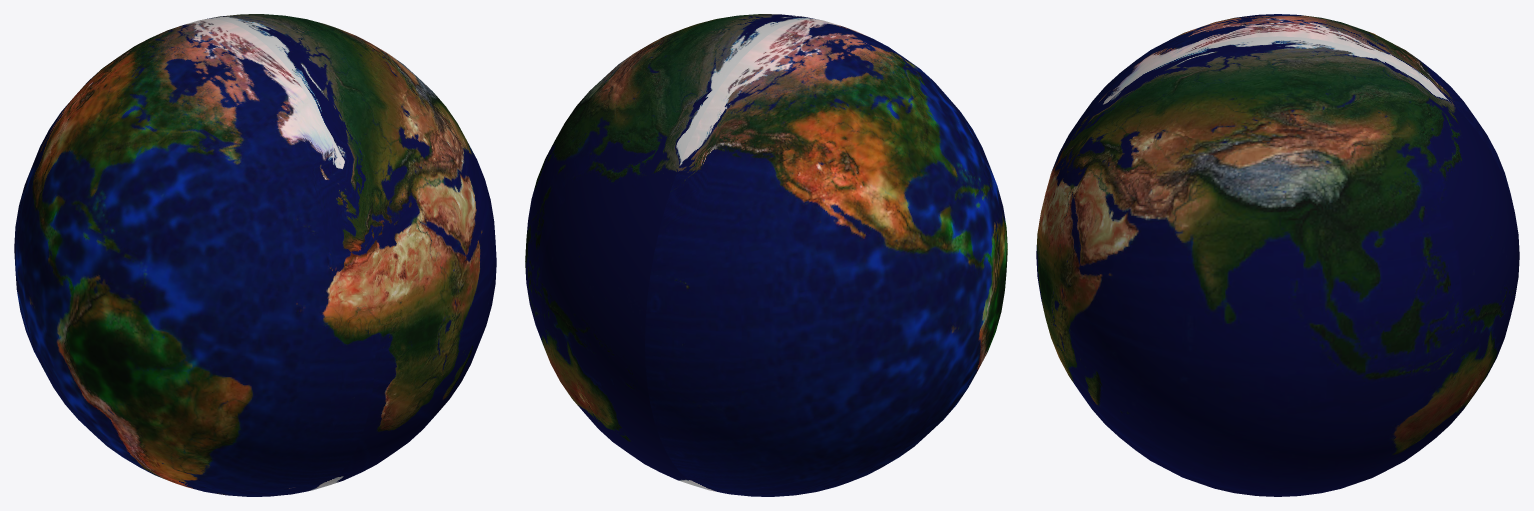
The model's file is earth.fbx.
3 views of the same model, side by side, from view 1: azimuth 30°, elevation 25°; view 2: azimuth 150°, elevation 25°; view 3: azimuth 270°, elevation 25° (orthographic).
Parts seen in each view (by area): view 1: Sphere; view 2: Sphere; view 3: Sphere.
Boxes of the visible parts, x1,y1,x2,y2 form: Sphere: (14, 14, 496, 496); Sphere: (525, 14, 1007, 496); Sphere: (1036, 14, 1519, 496).
Size of the model in its own units: 2 by 2 by 2.
